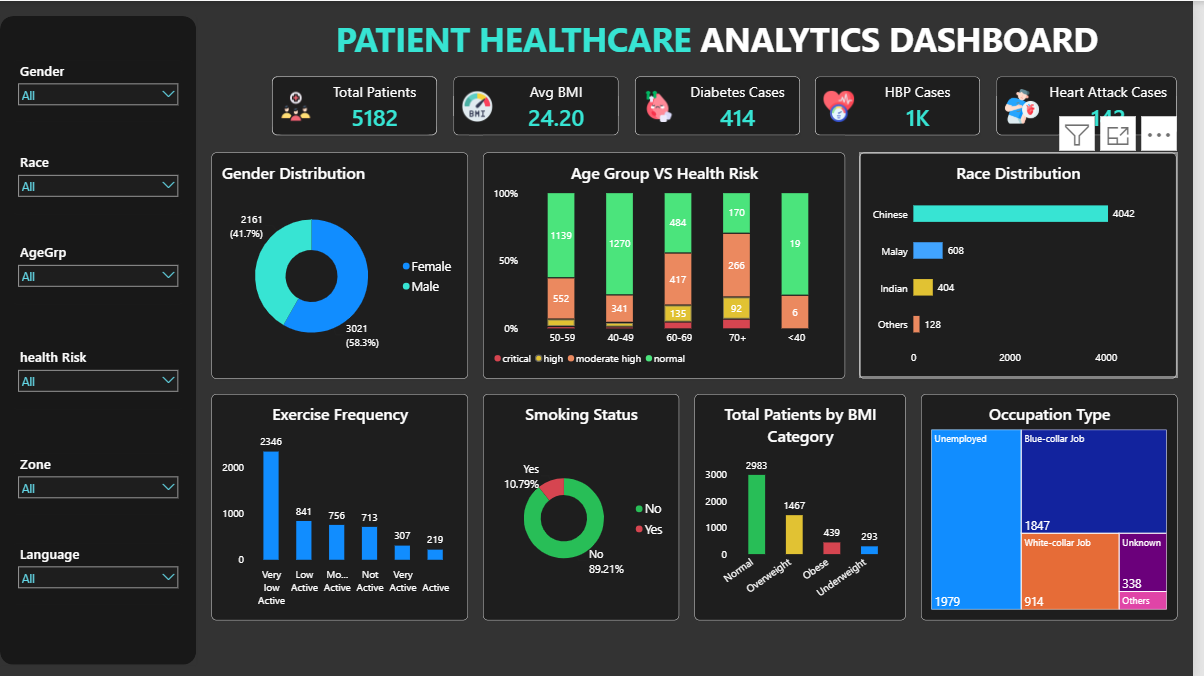

What the dashboard file says about the page in this screenshot:
{"tool":"powerbi","page":{"name":"Page 1","canvas":[1920,1080],"ordinal":0},"visuals":[{"type":"textbox","box":[408,24,1512,72],"z":0},{"type":"cardVisual","fields":{"Data":["Sample_Data.Total Patients"]},"box":[456,120,264,96],"z":1000},{"type":"cardVisual","fields":{"Data":["Sample_Data.Avg BMI"]},"box":[744,120,264,96],"z":2000},{"type":"cardVisual","fields":{"Data":["Sample_Data.Diabetes count"]},"box":[1032,120,264,96],"z":3000},{"type":"cardVisual","fields":{"Data":["Sample_Data.HBP count"]},"box":[1320,120,264,96],"z":4000},{"type":"cardVisual","fields":{"Data":["Sample_Data.Heart Attack count"]},"box":[1608,120,288,96],"z":5000},{"type":"donutChart","title":" Gender Distribution","fields":{"Category":["Sample_Data.Gender"],"Y":["Sample_Data.Total Patients"]},"box":[336,240,432,384],"z":6000},{"type":"hundredPercentStackedColumnChart","title":" Age Group VS Health Risk","fields":{"Category":["Sample_Data.AgeGrp"],"Series":["Sample_Data.healthRisk"],"Y":["Sample_Data.Total Patients"]},"box":[792,240,576,384],"z":7000},{"type":"clusteredBarChart","title":"Race Distribution","fields":{"Category":["Sample_Data.Race"],"Y":["Sample_Data.Total Patients"]},"box":[1392,240,504,384],"z":8000},{"type":"clusteredColumnChart","title":" Exercise Frequency","fields":{"Category":["Sample_Data.Exercise Group"],"Y":["Sample_Data.Total Patients"]},"box":[336,648,432,360],"z":9000},{"type":"donutChart","title":" Smoking Status","fields":{"Category":["Sample_Data.Smoking"],"Y":["Sample_Data.Total Patients"]},"box":[792,648,312,360],"z":10000},{"type":"columnChart","fields":{"Category":["Sample_Data.BMI Category"],"Y":["Sample_Data.Total Patients"]},"box":[1128,648,336,360],"z":11000},{"type":"treemap","title":"Occupation Type","fields":{"Group":["Sample_Data.OccupationType"],"Values":["Sample_Data.Total Patients"]},"box":[1488,648,408,360],"z":12000},{"type":"shape","box":[24,72,288,912],"z":13000},{"type":"slicer","fields":{"Values":["Sample_Data.Gender"]},"box":[48,120,240,96],"z":14000},{"type":"slicer","fields":{"Values":["Sample_Data.Race"]},"box":[48,240,240,96],"z":15000},{"type":"slicer","fields":{"Values":["Sample_Data.AgeGrp"]},"box":[48,384,240,96],"z":16000},{"type":"slicer","fields":{"Values":["Sample_Data.healthRisk"]},"box":[48,528,240,96],"z":17000},{"type":"slicer","fields":{"Values":["Sample_Data.scnZone"]},"box":[48,672,240,96],"z":18000},{"type":"slicer","fields":{"Values":["Sample_Data.PreferredLanguage"]},"box":[48,840,240,96],"z":19000}]}

Visuals, with their boxes in screenshot pixels (x1, y1, x2, y2), scaled from the page's 1920x1080 canvas onto the 1204x676 screenshot:
textbox: [256, 15, 1203, 60]
cardVisual - Sample_Data.Total Patients: [286, 75, 452, 135]
cardVisual - Sample_Data.Avg BMI: [467, 75, 632, 135]
cardVisual - Sample_Data.Diabetes count: [647, 75, 813, 135]
cardVisual - Sample_Data.HBP count: [828, 75, 993, 135]
cardVisual - Sample_Data.Heart Attack count: [1008, 75, 1189, 135]
" Gender Distribution" donutChart: [211, 150, 482, 391]
" Age Group VS Health Risk" hundredPercentStackedColumnChart: [497, 150, 858, 391]
"Race Distribution" clusteredBarChart: [873, 150, 1189, 391]
" Exercise Frequency" clusteredColumnChart: [211, 406, 482, 631]
" Smoking Status" donutChart: [497, 406, 692, 631]
columnChart - Sample_Data.BMI Category x Sample_Data.Total Patients: [707, 406, 918, 631]
"Occupation Type" treemap: [933, 406, 1189, 631]
shape: [15, 45, 196, 616]
slicer - Sample_Data.Gender: [30, 75, 181, 135]
slicer - Sample_Data.Race: [30, 150, 181, 210]
slicer - Sample_Data.AgeGrp: [30, 240, 181, 300]
slicer - Sample_Data.healthRisk: [30, 330, 181, 391]
slicer - Sample_Data.scnZone: [30, 421, 181, 481]
slicer - Sample_Data.PreferredLanguage: [30, 526, 181, 586]
